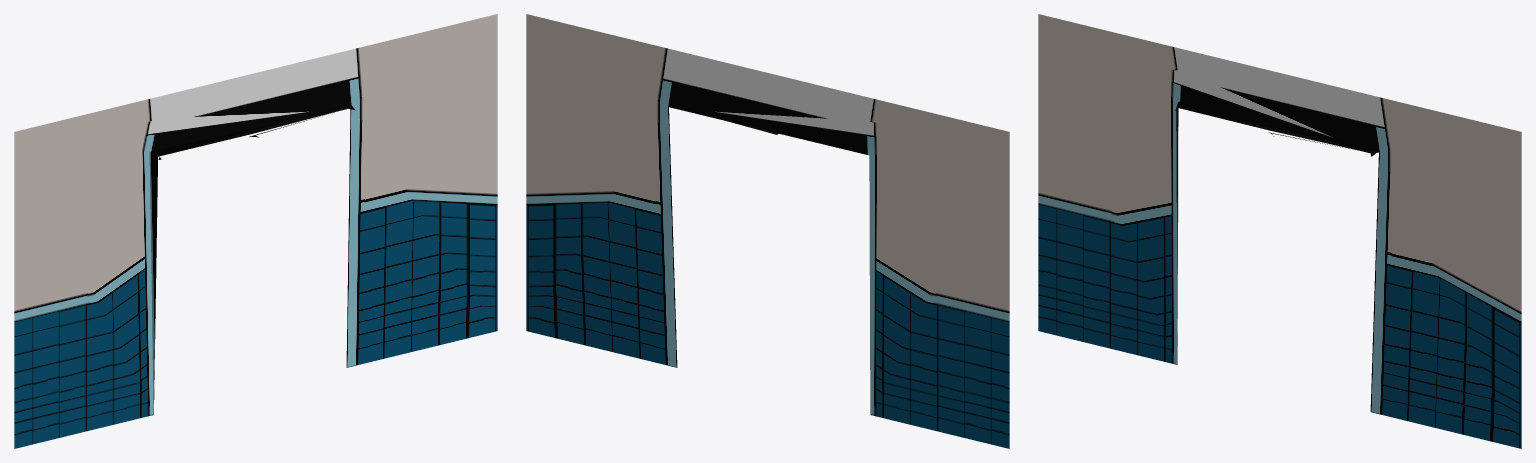
File: doorway.fbx
3 renders of one model, left to right at view 1: azimuth 30°, elevation 25°; view 2: azimuth 150°, elevation 25°; view 3: azimuth 330°, elevation 25°, orthographic.
Visible parts, largest first — view 1: doorway; view 2: doorway; view 3: doorway.
Boxes of the visible parts, left/top/right/bottom form: doorway: left=14, top=14, right=497, bottom=448; doorway: left=526, top=14, right=1009, bottom=448; doorway: left=1038, top=14, right=1521, bottom=448.
Bounding box in the file's own units: 159 × 100 × 4.19.
1 material, 1 textured.
